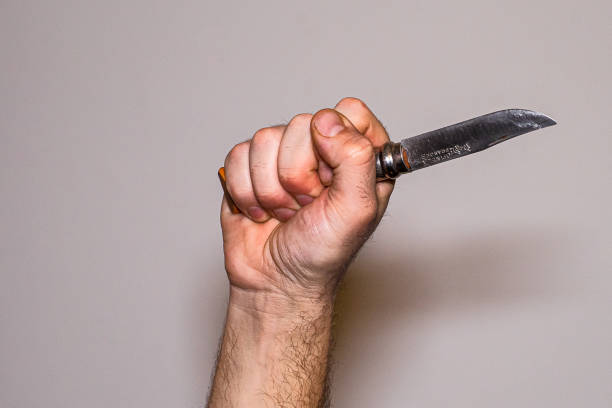knife: (376, 107, 560, 183)
